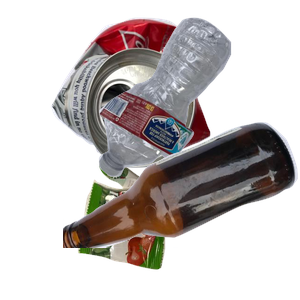glass: (63, 120, 300, 300)
metal: (48, 15, 251, 175)
plastic: (96, 15, 300, 184)
trash: (75, 156, 244, 300)
